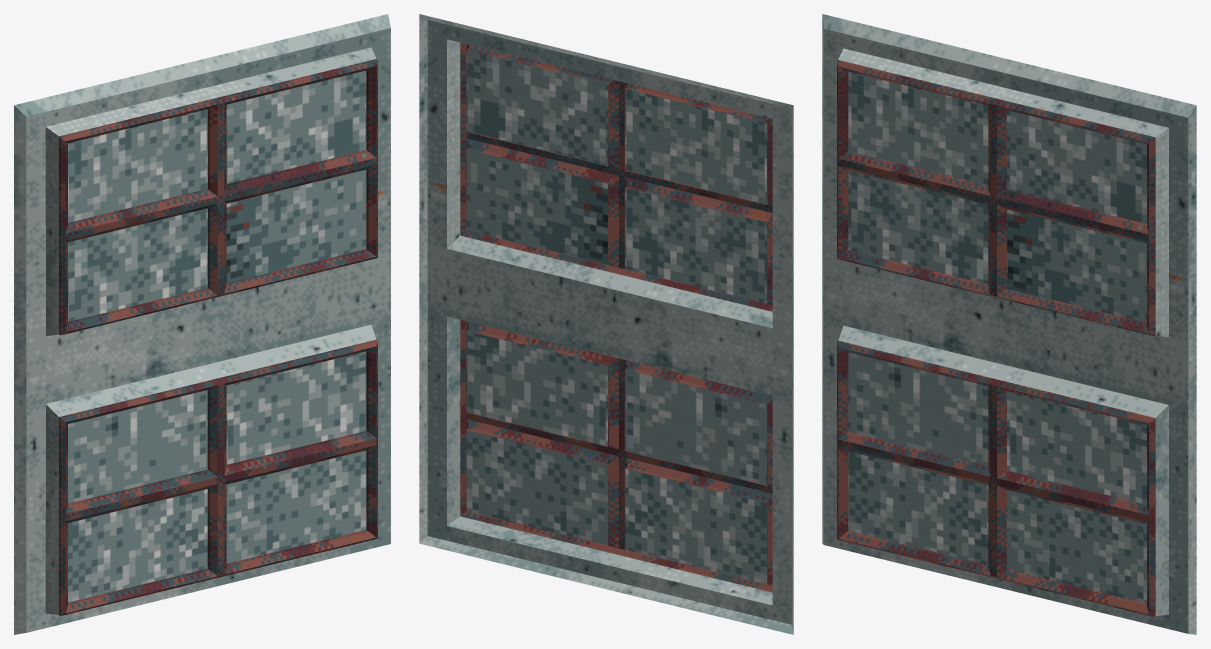
File: window.glb
3 views of the same model, side by side, from view 1: azimuth 30°, elevation 25°; view 2: azimuth 150°, elevation 25°; view 3: azimuth 330°, elevation 25° (orthographic).
Visible parts, largest first — view 1: Cube; view 2: Cube; view 3: Cube.
Boxes of the visible parts, x1=… form: Cube: x1=14, y1=14, x2=390, y2=634; Cube: x1=419, y1=14, x2=793, y2=634; Cube: x1=822, y1=14, x2=1196, y2=634.
Size of the model in its own units: 2.12 by 2.86 by 0.1754.
3 materials, 3 textured.
